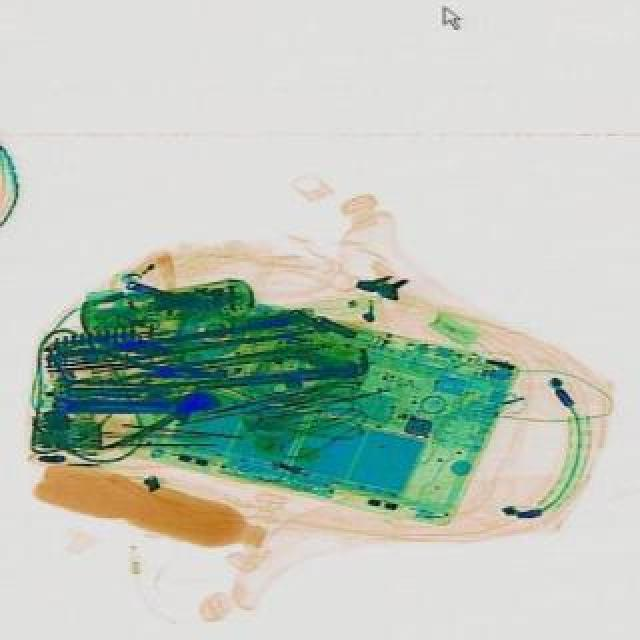wrench: (54, 346, 218, 392)
